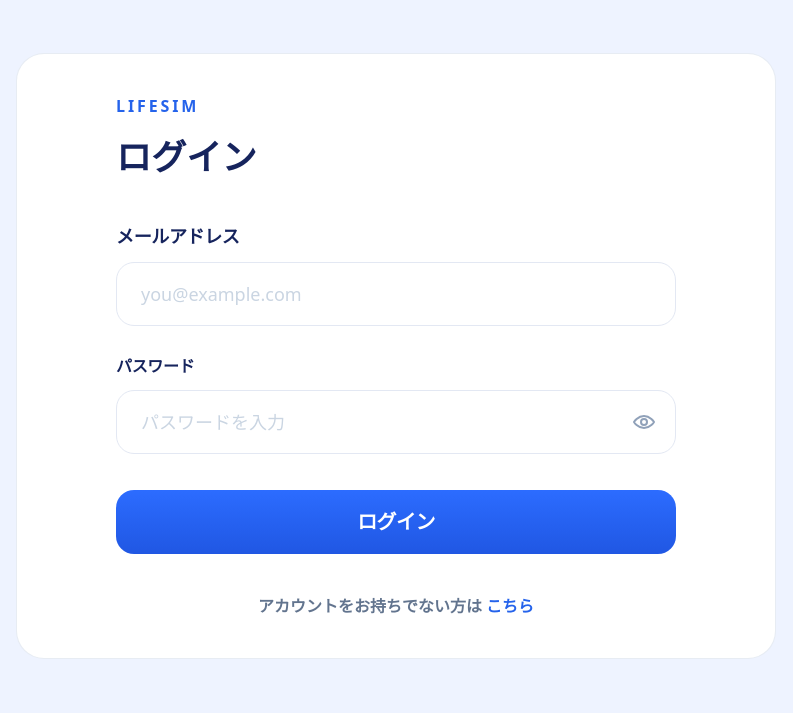
Scenario: LoginPage › 【異常系】ログイン失敗時はエラーメッセージが表示されること
Type "taro@example.com" into the field labelled "メールアドレス" at (396, 294), box x1=116 y1=262 x2=676 y2=326
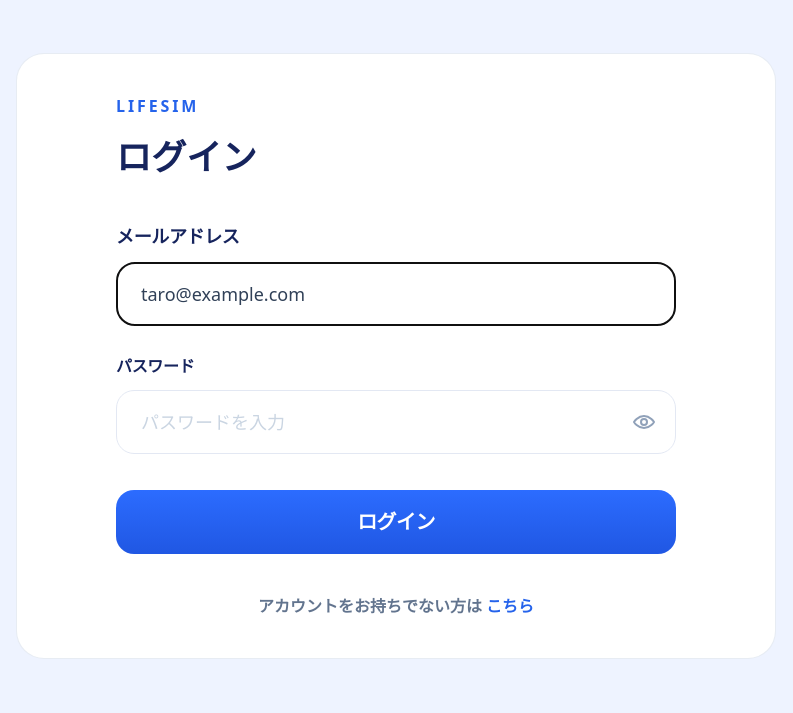
Type "wrongpass" into the password field with placeholder "パスワードを入力" at (396, 422), box x1=116 y1=390 x2=676 y2=454
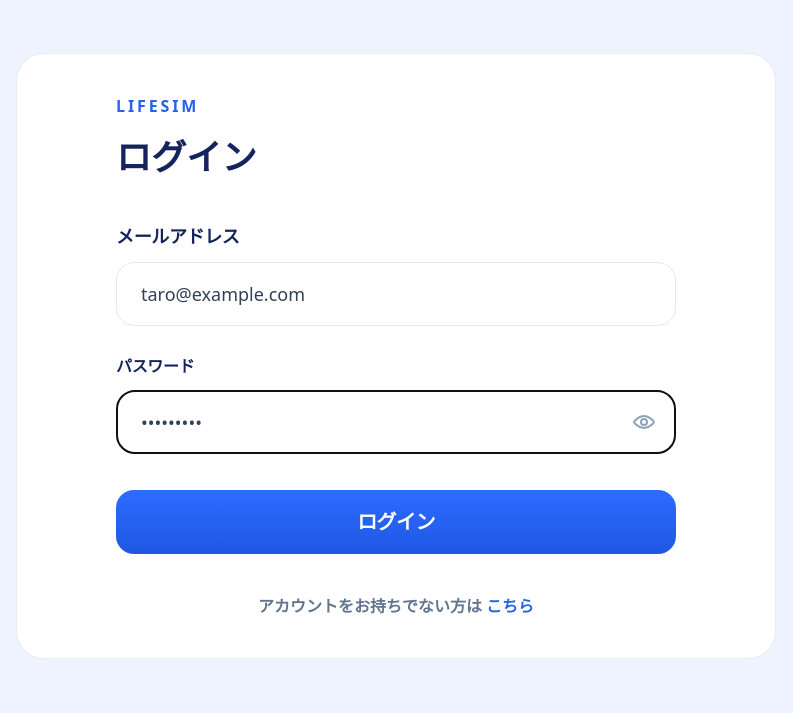
Click the button "ログイン" at (396, 522), box x1=116 y1=490 x2=676 y2=554
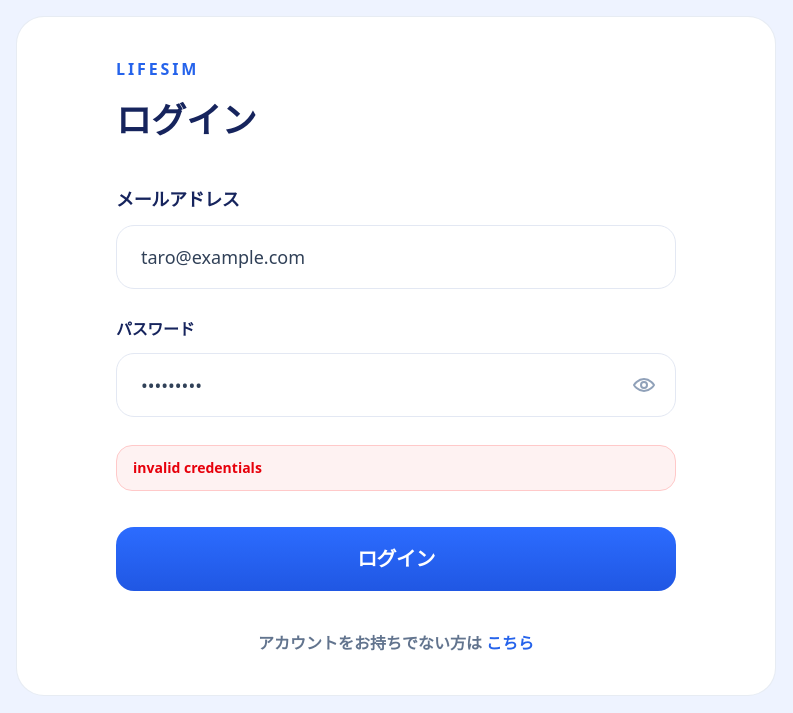
Result: the text "invalid credentials" is shown at x1=116 y1=445 x2=676 y2=491
